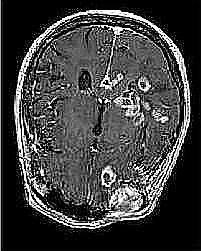Tumor: (104, 71, 170, 127), (108, 179, 143, 212), (97, 165, 118, 187), (135, 73, 154, 93), (76, 71, 93, 91)
